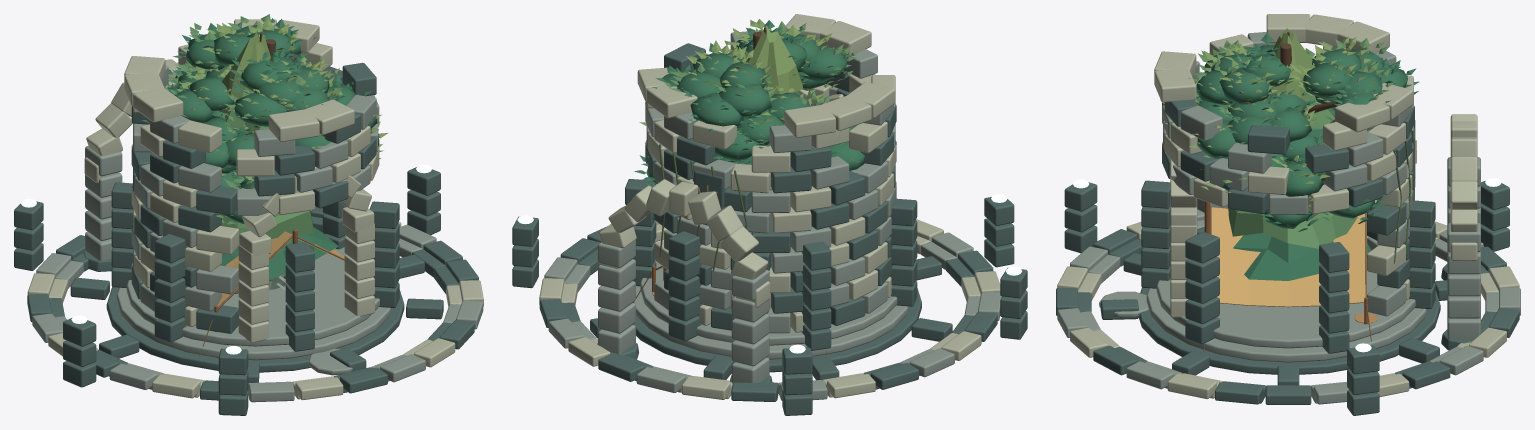
File: emberwild-world.glb
3 renders of one model, left to right at view 1: azimuth 30°, elevation 25°; view 2: azimuth 150°, elevation 25°; view 3: azimuth 270°, elevation 25°, orthographic. The views are drawn at different scales.
Parts seen in each view (by area): view 1: watchtower_stoneDark, watchtower_stoneLight, watchtower_stone, moonSanctum_stoneDark, moonSanctum_stone, alderTall_leaf, moonSanctum_stoneLight, alder_leaf, pine_leafMid, alderTall_leafLight, alderTall_leafMid, pine_leaf (+5 smaller); view 2: watchtower_stoneDark, watchtower_stoneLight, watchtower_stone, moonSanctum_stoneDark, moonSanctum_stone, moonSanctum_stoneLight, alderTall_leaf, alder_leaf, pine_leafLight, alderTall_leafLight, alder_leafMid, alder_leafLight (+3 smaller); view 3: watchtower_stoneDark, watchtower_stone, watchtower_stoneLight, moonSanctum_stoneDark, alderTall_leaf, moonSanctum_stone, moonSanctum_stoneLight, weathered linen, alder_leaf, pine_leafMid, pine_leaf, alderTall_leafLight (+5 smaller).
Boxes of the visible parts, x1,y1,x2,y2 form: watchtower_stoneDark: [70, 62, 443, 383]; watchtower_stoneLight: [124, 19, 379, 342]; watchtower_stone: [116, 65, 391, 360]; moonSanctum_stoneDark: [14, 167, 478, 415]; moonSanctum_stone: [32, 146, 483, 402]; alderTall_leaf: [141, 22, 376, 223]; moonSanctum_stoneLight: [27, 59, 483, 400]; alder_leaf: [168, 18, 379, 188]; pine_leafMid: [220, 102, 314, 244]; alderTall_leafLight: [176, 23, 381, 188]; alderTall_leafMid: [149, 23, 342, 224]; pine_leaf: [220, 226, 338, 280]; watchtower_stoneDark: [590, 43, 952, 380]; watchtower_stoneLight: [637, 14, 896, 332]; watchtower_stone: [633, 31, 909, 359]; moonSanctum_stoneDark: [512, 197, 1027, 415]; moonSanctum_stone: [544, 232, 1001, 400]; moonSanctum_stoneLight: [539, 179, 1000, 399]; alderTall_leaf: [634, 20, 864, 187]; alder_leaf: [645, 34, 846, 163]; pine_leafLight: [747, 26, 803, 96]; alderTall_leafLight: [639, 19, 823, 125]; alder_leafMid: [662, 44, 858, 190]; alder_leafLight: [686, 25, 838, 97]; watchtower_stoneDark: [1100, 99, 1447, 385]; watchtower_stone: [1146, 32, 1427, 362]; watchtower_stoneLight: [1154, 14, 1413, 317]; moonSanctum_stoneDark: [1056, 181, 1519, 415]; alderTall_leaf: [1196, 43, 1419, 223]; moonSanctum_stone: [1057, 157, 1520, 404]; moonSanctum_stoneLight: [1057, 114, 1519, 399]; weathered linen: [1211, 207, 1365, 307]; alder_leaf: [1196, 33, 1390, 231]; pine_leafMid: [1228, 95, 1357, 248]; pine_leaf: [1233, 129, 1371, 280]; alderTall_leafLight: [1189, 37, 1371, 206].
Bounding box in the file's own units: 15.24 × 9.27 × 13.75.
